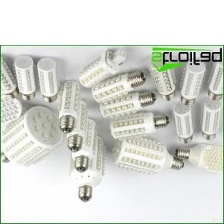light_bulb: (0, 101, 66, 171), (107, 132, 183, 182), (62, 134, 109, 204), (75, 47, 128, 90), (107, 108, 172, 142), (95, 89, 157, 120), (90, 70, 148, 103), (67, 116, 99, 174), (174, 141, 224, 176), (178, 56, 208, 112), (59, 98, 89, 154), (146, 54, 177, 104), (56, 80, 82, 136), (169, 99, 197, 147), (35, 54, 60, 105), (199, 94, 224, 143), (12, 53, 37, 102), (204, 52, 224, 103), (0, 55, 19, 100)
